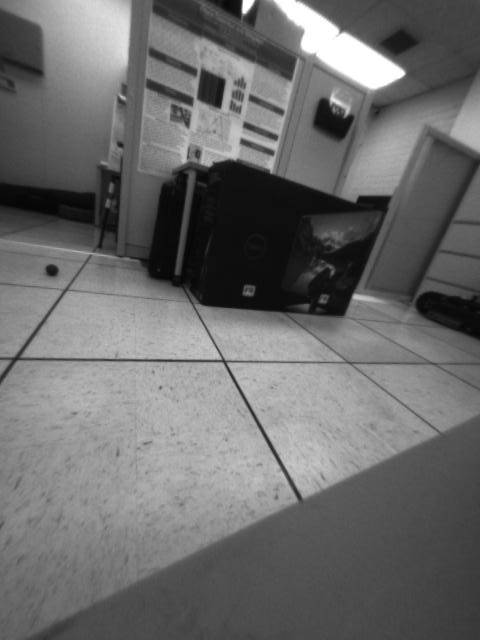dogtoy: (37, 259, 64, 282)
